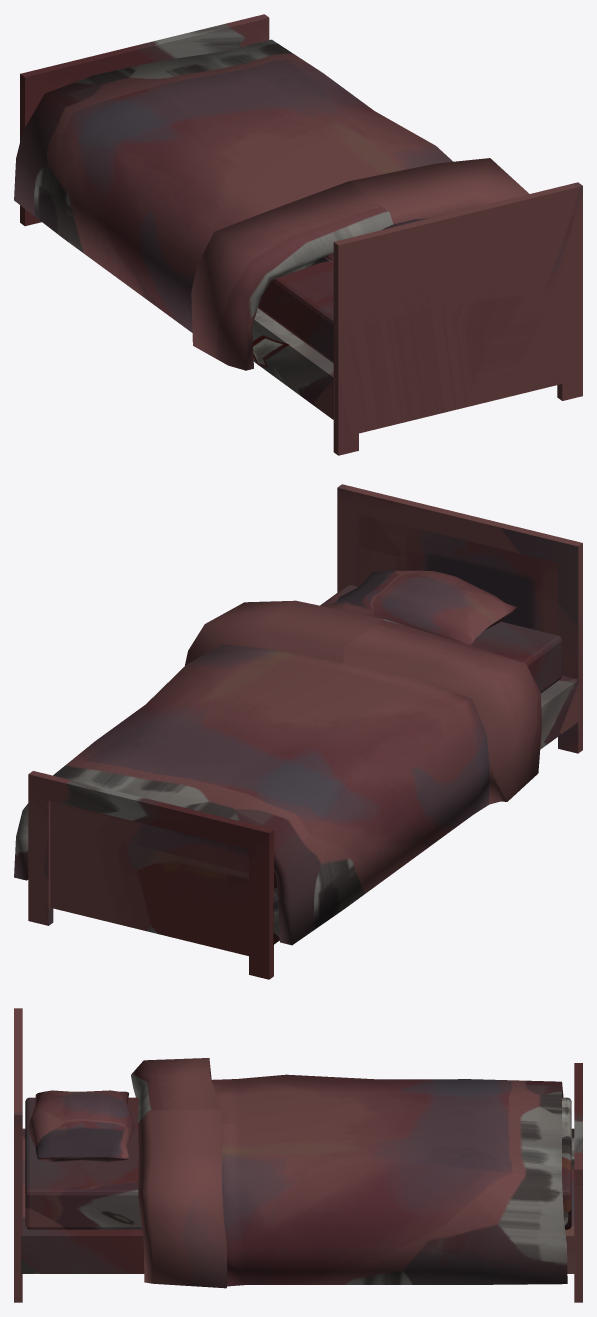
File: bed.fbx
3 renders of one model, top to bottom at view 1: azimuth 30°, elevation 25°; view 2: azimuth 150°, elevation 25°; view 3: azimuth 270°, elevation 25°, orthographic. The views are drawn at different scales.
Visible parts, largest first — view 1: bed; view 2: bed; view 3: bed.
Part boxes in pixels (x1=…): bed: x1=14, y1=14, x2=582, y2=455; bed: x1=14, y1=484, x2=582, y2=979; bed: x1=14, y1=1008, x2=582, y2=1302.
Size of the model in its own units: 783 by 487 by 1337.
